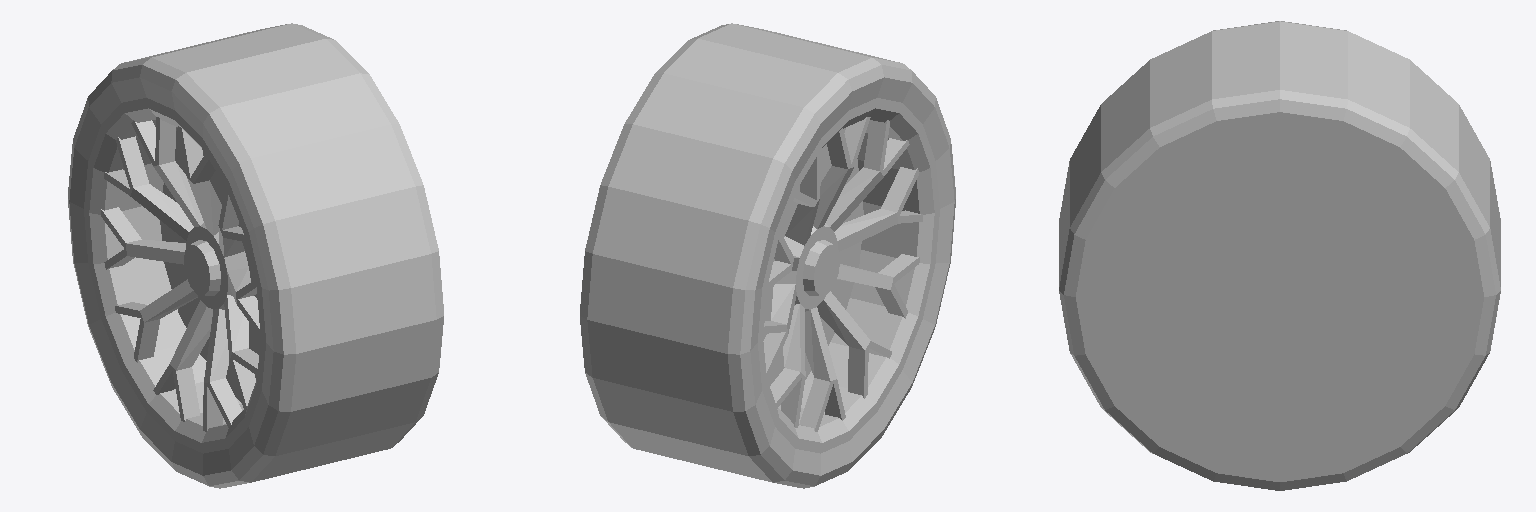
Rendered from Lamborghini_Aventador_front_right_wheel.obj.
3 renders of one model, left to right at view 1: azimuth 30°, elevation 25°; view 2: azimuth 150°, elevation 25°; view 3: azimuth 270°, elevation 25°, orthographic.
Visible parts, largest first — view 1: Lamborghini_Aventador:Wheel_FL.001; view 2: Lamborghini_Aventador:Wheel_FL.001; view 3: Lamborghini_Aventador:Wheel_FL.001.
Part boxes in pixels (bbox=[...]): Lamborghini_Aventador:Wheel_FL.001: bbox=[68, 23, 443, 488]; Lamborghini_Aventador:Wheel_FL.001: bbox=[580, 23, 955, 488]; Lamborghini_Aventador:Wheel_FL.001: bbox=[1059, 21, 1500, 490].
Size of the model in its own units: 0.3329 by 0.7543 by 0.7543.